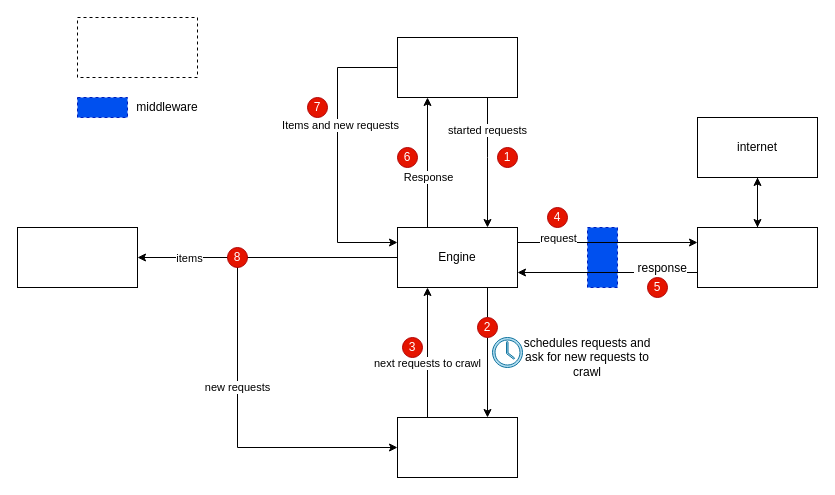
Image size: 835x495. Some labels were removed from this diagram. Here are the shapes that lost their labels. From the top down, the centre of each, then its label:
[137,47]: goscrapy
[457,67]: Spiders
[77,257]: Pipelines
[757,257]: downloader
[457,447]: Scheduler
